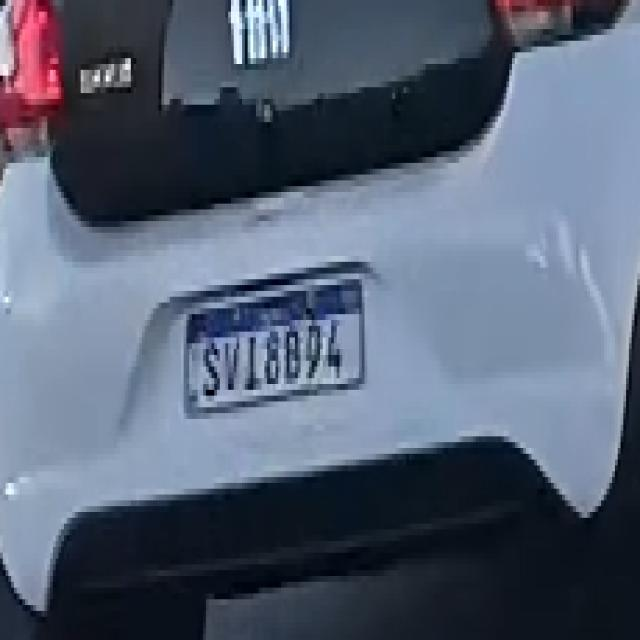Placa_mercosul_carro: (182, 275, 366, 420)
